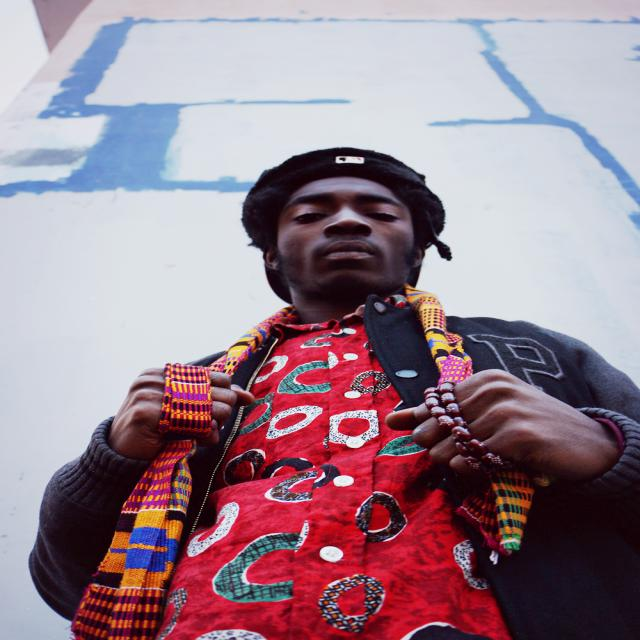sem_oculos: (274, 184, 408, 227)
